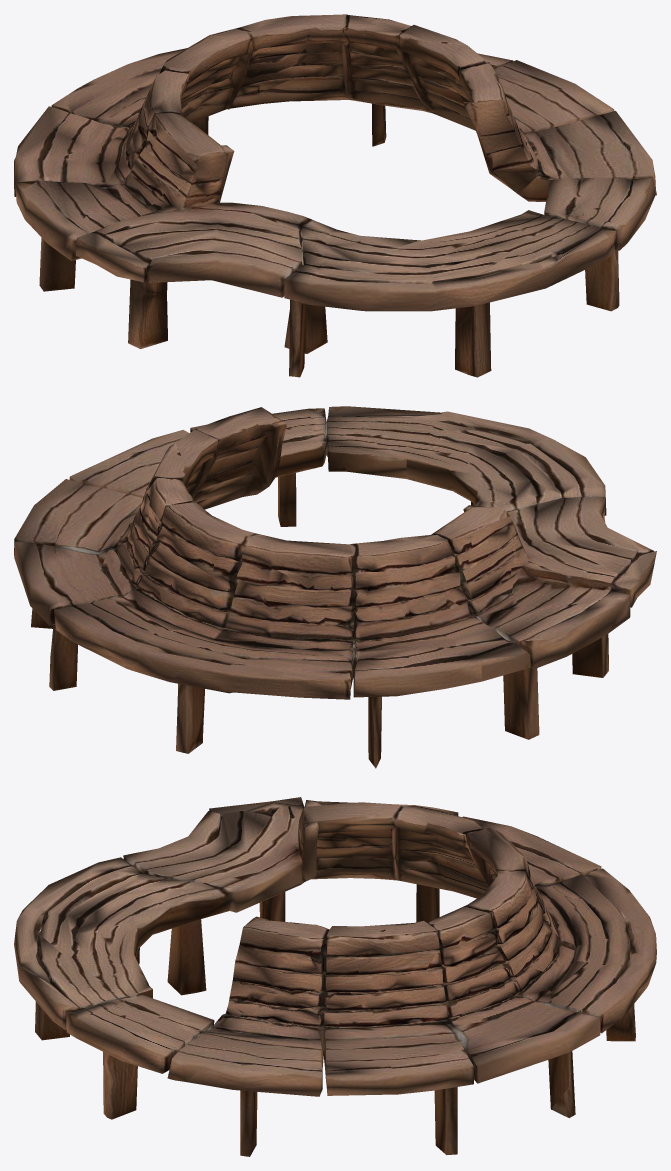
The model's file is treebench_lod1.glb.
3 views of the same model, one above another, from view 1: azimuth 30°, elevation 25°; view 2: azimuth 150°, elevation 25°; view 3: azimuth 270°, elevation 25° (orthographic).
Parts seen in each view (by area): view 1: tripo_node_6f01738a-4bdf-4865-9e24-fbcca63d4fdb; view 2: tripo_node_6f01738a-4bdf-4865-9e24-fbcca63d4fdb; view 3: tripo_node_6f01738a-4bdf-4865-9e24-fbcca63d4fdb.
Boxes of the visible parts, x1=… form: tripo_node_6f01738a-4bdf-4865-9e24-fbcca63d4fdb: x1=14, y1=14, x2=656, y2=377; tripo_node_6f01738a-4bdf-4865-9e24-fbcca63d4fdb: x1=14, y1=406, x2=656, y2=768; tripo_node_6f01738a-4bdf-4865-9e24-fbcca63d4fdb: x1=14, y1=797, x2=656, y2=1156.
Size of the model in its own units: 1.67 by 0.4977 by 1.69.
1 material, 1 textured.
